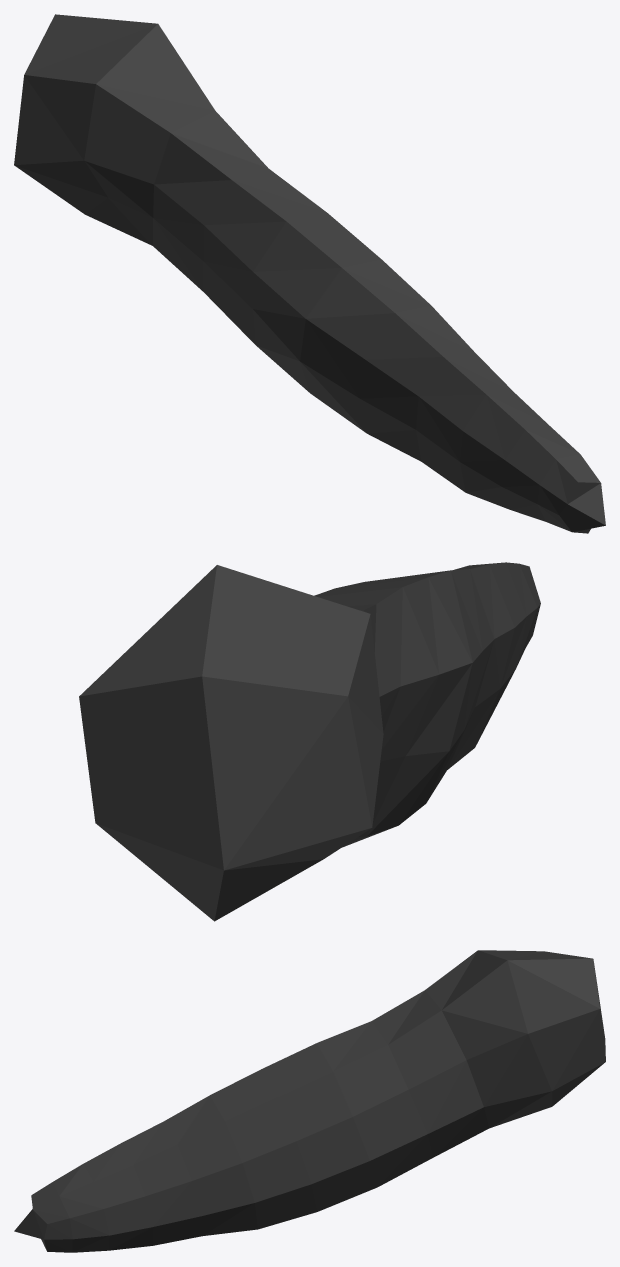
The picture shows the model from 3 angles, top to bottom: view 1: azimuth 30°, elevation 25°; view 2: azimuth 150°, elevation 25°; view 3: azimuth 270°, elevation 25°; orthographic projection. The views are drawn at different scales.
Visible parts, largest first — view 1: world; view 2: world; view 3: world.
Part boxes in pixels (x1=…): world: x1=14, y1=14, x2=605, y2=533; world: x1=79, y1=562, x2=540, y2=921; world: x1=14, y1=950, x2=605, y2=1252.
Bounding box in the file's own units: 0.0152 × 0.018 × 0.039.
Materials: 1 (1 with a texture image).
